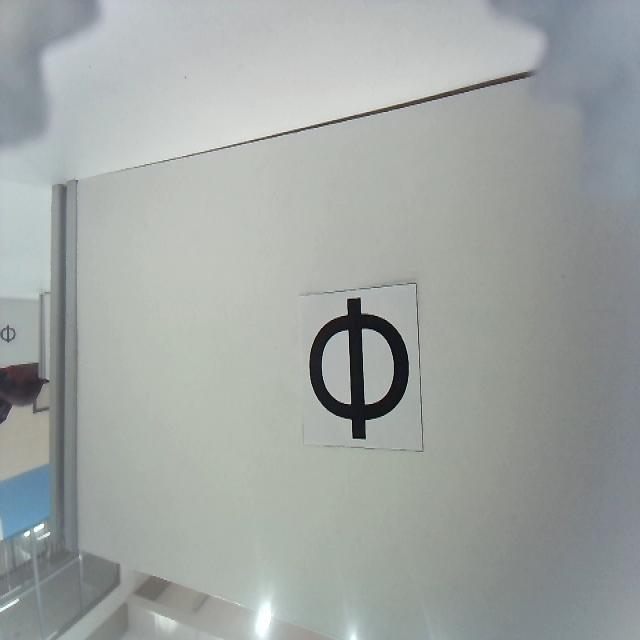F: (309, 297, 409, 440)
